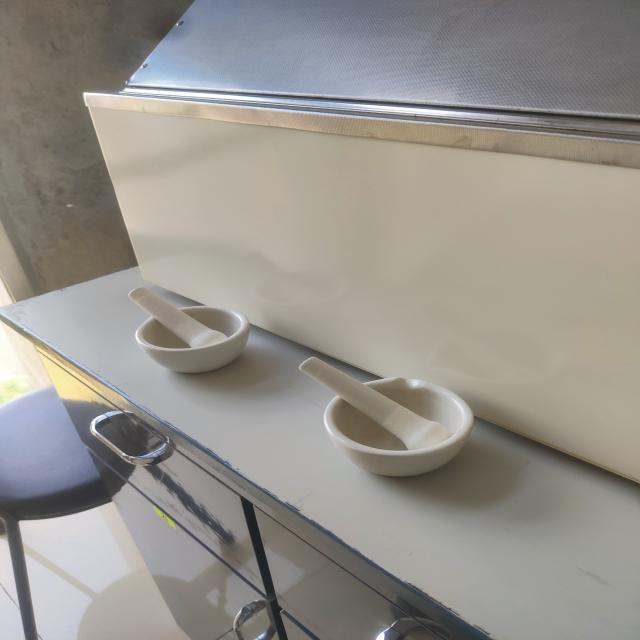Porcelain_Mortar Pestle: (288, 332, 492, 496), (107, 264, 272, 388)
